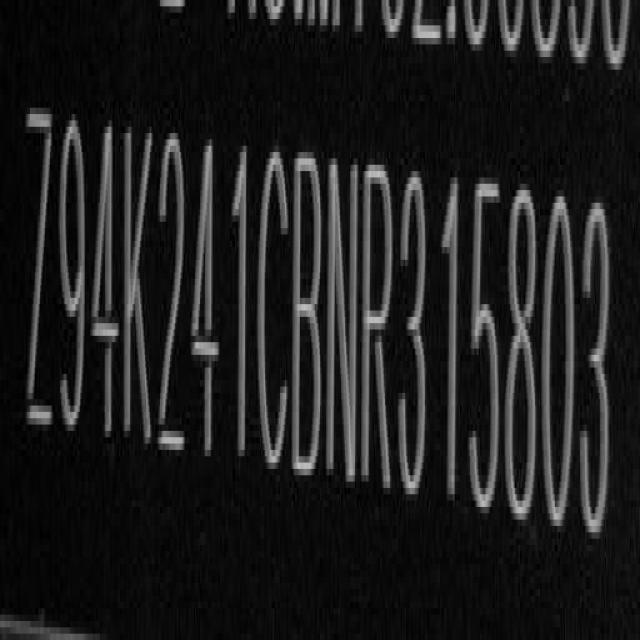0: (542, 189, 574, 540)
1: (440, 167, 460, 508), (230, 142, 250, 480)
2: (159, 124, 189, 470)
3: (584, 202, 616, 545), (400, 166, 432, 504)
4: (193, 130, 224, 472), (93, 109, 122, 453)
5: (468, 170, 500, 519)
8: (507, 175, 539, 526)
9: (57, 110, 89, 454)
B: (296, 145, 326, 488)
C: (255, 145, 291, 480)
K: (123, 123, 156, 463)
M: (326, 150, 362, 491)
R: (364, 156, 397, 498)
Z: (22, 102, 53, 454)
